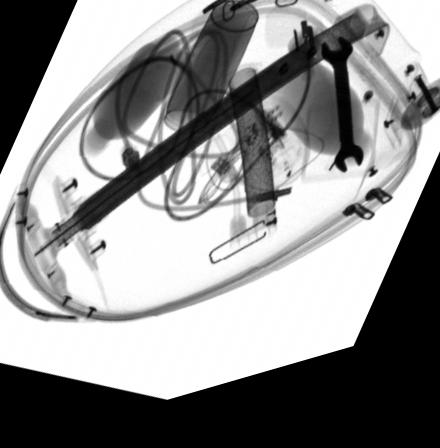Wrench: (319, 55, 363, 192)
